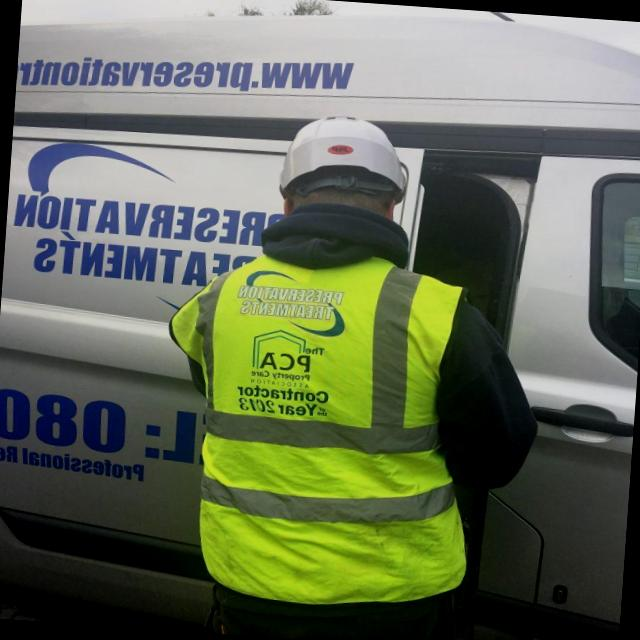helmet: (241, 106, 434, 217)
vest: (150, 246, 496, 621)
